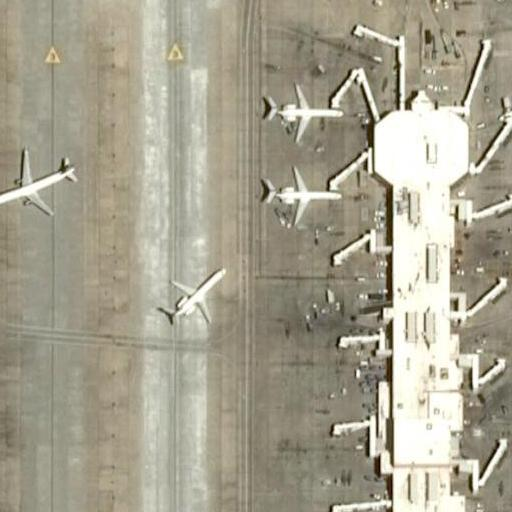Aircraft: (254, 162, 339, 229), (257, 76, 343, 142), (0, 144, 76, 217), (155, 259, 227, 328), (496, 70, 512, 133)
